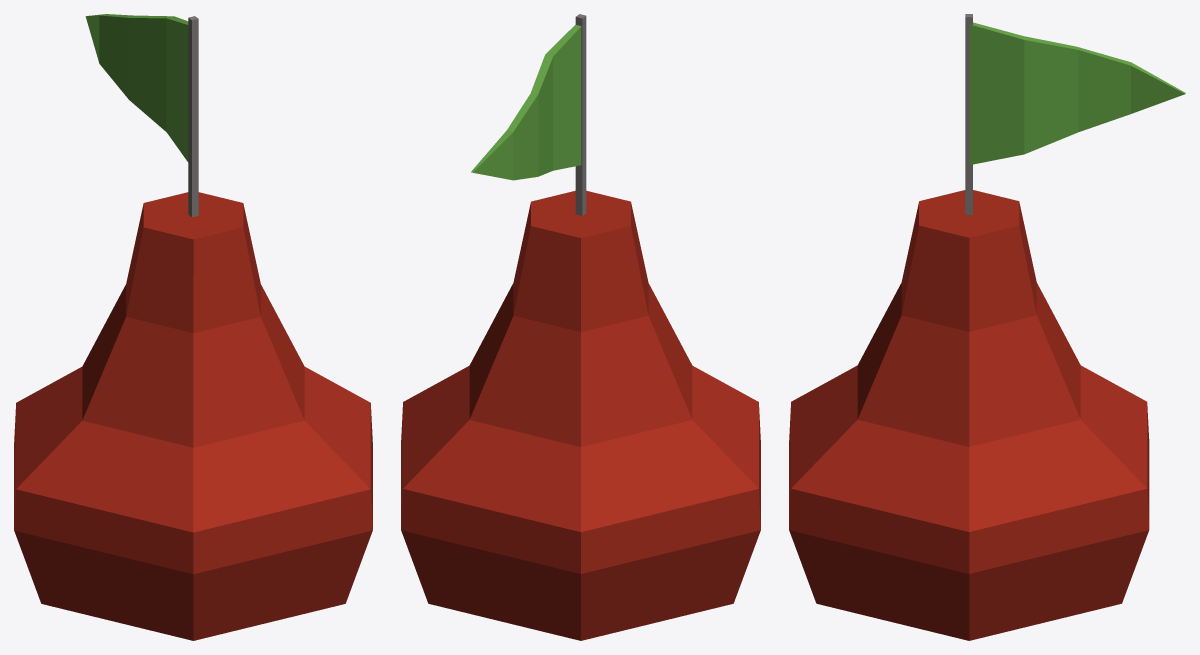
File: Buoy_Start.fbx
3 views of the same model, side by side, from view 1: azimuth 30°, elevation 25°; view 2: azimuth 150°, elevation 25°; view 3: azimuth 270°, elevation 25° (orthographic).
Parts seen in each view (by area): view 1: Boje_Start; view 2: Boje_Start; view 3: Boje_Start.
Part boxes in pixels (<box>): Boje_Start: <box>14,14,372,640</box>; Boje_Start: <box>401,14,760,640</box>; Boje_Start: <box>789,14,1185,640</box>.
Size of the model in its own units: 236 by 344 by 225.
